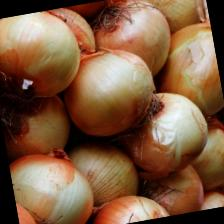onion: (56, 39, 162, 143), (111, 84, 214, 182), (138, 19, 224, 126), (0, 5, 87, 106), (88, 0, 177, 87), (6, 142, 100, 224)
